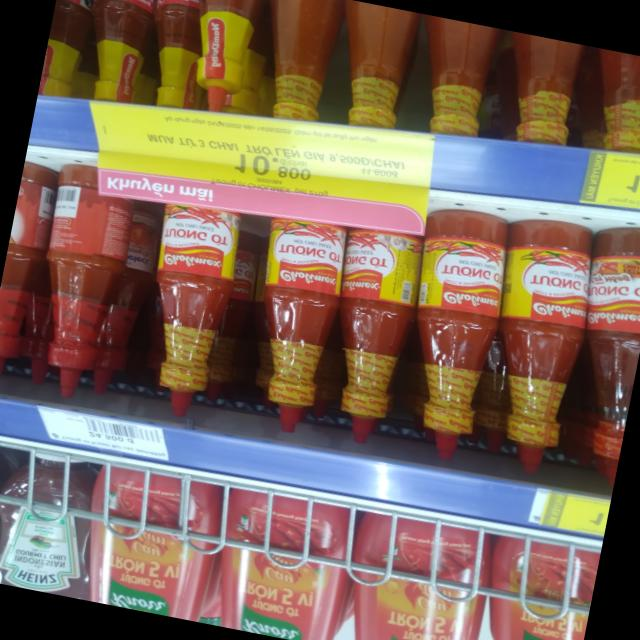tuong ot chinsu: (121, 167, 252, 424), (232, 190, 359, 442)
